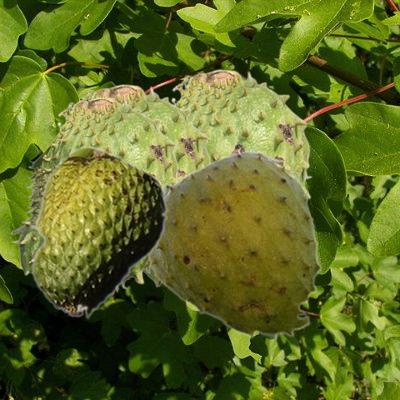guyabano: (144, 69, 311, 287), (147, 150, 321, 340), (10, 97, 178, 276), (79, 84, 211, 293), (29, 145, 167, 319)
